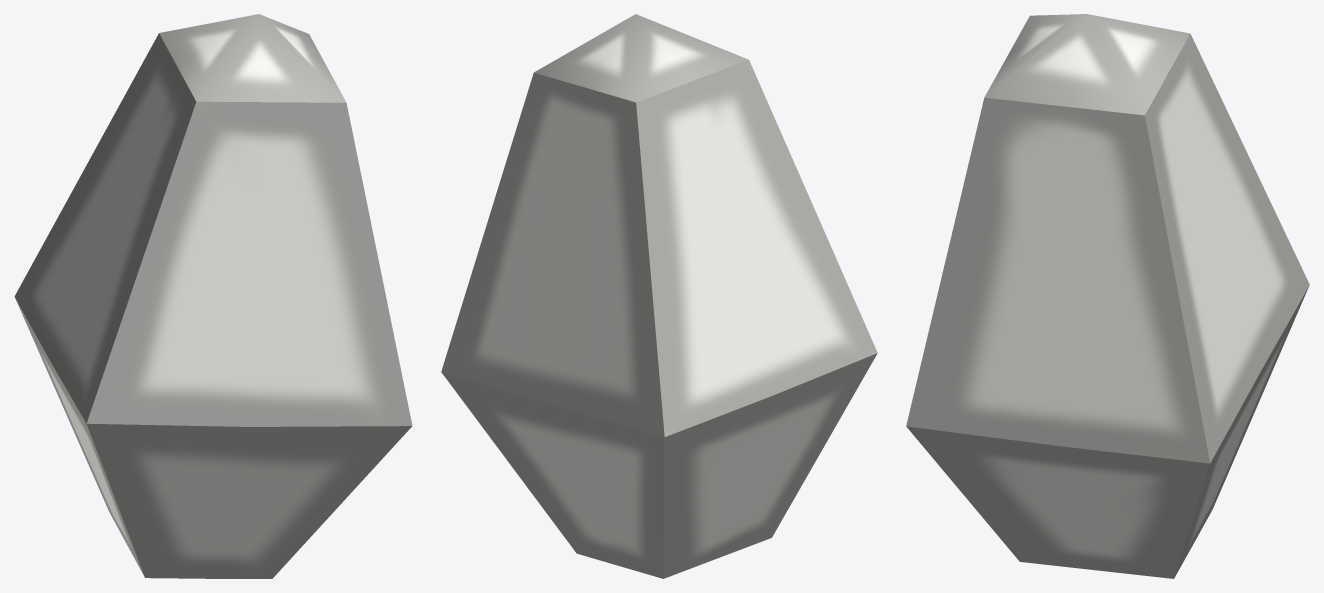
File: Thigh R.fbx
3 renders of one model, left to right at view 1: azimuth 30°, elevation 25°; view 2: azimuth 150°, elevation 25°; view 3: azimuth 270°, elevation 25°, orthographic. The views are drawn at different scales.
Parts seen in each view (by area): view 1: Thigh R_Baked; view 2: Thigh R_Baked; view 3: Thigh R_Baked.
Boxes of the visible parts, x1=… form: Thigh R_Baked: x1=14, y1=14, x2=412, y2=578; Thigh R_Baked: x1=441, y1=14, x2=877, y2=578; Thigh R_Baked: x1=906, y1=14, x2=1309, y2=578.
Size of the model in its own units: 113 by 163 by 107.
Materials: 1 (1 with a texture image).
